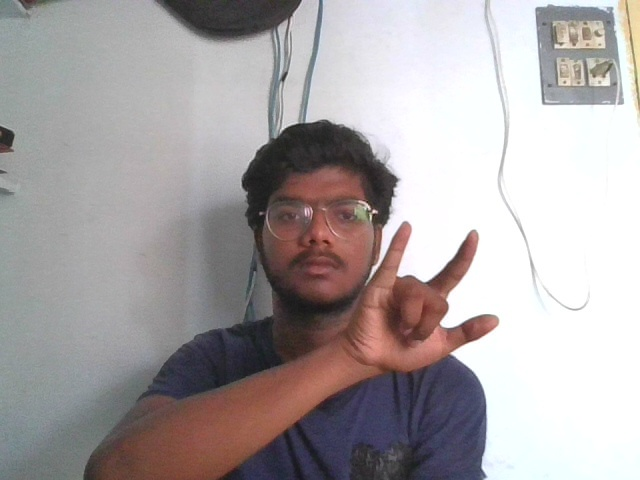IloveYou: (352, 215, 502, 377)
